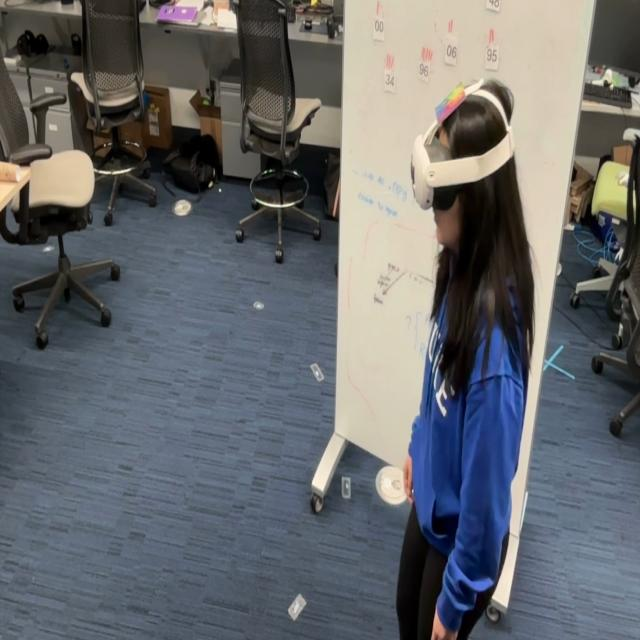Headset: (410, 78, 515, 210)
Marker: (429, 86, 469, 132)
